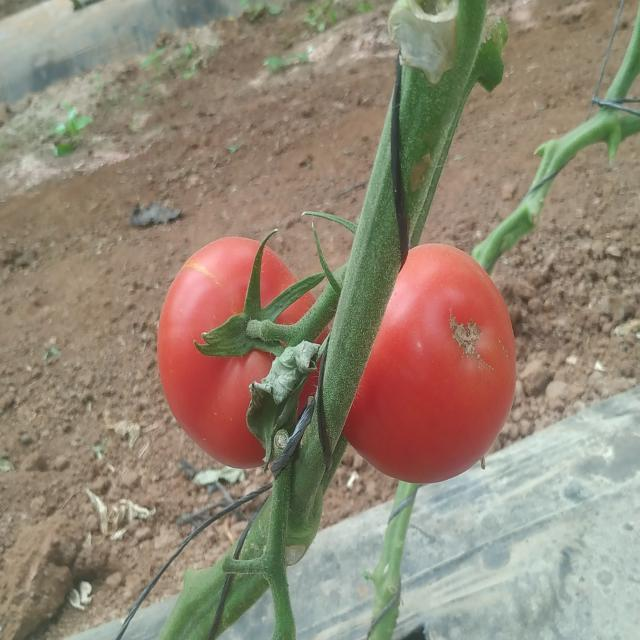Ripe Tomato: (154, 233, 325, 463), (347, 245, 513, 472)
